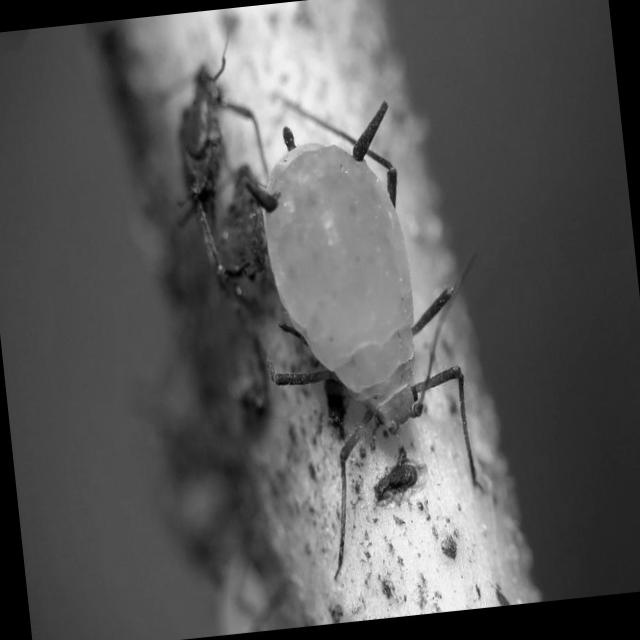Aphids: (236, 78, 488, 550)
